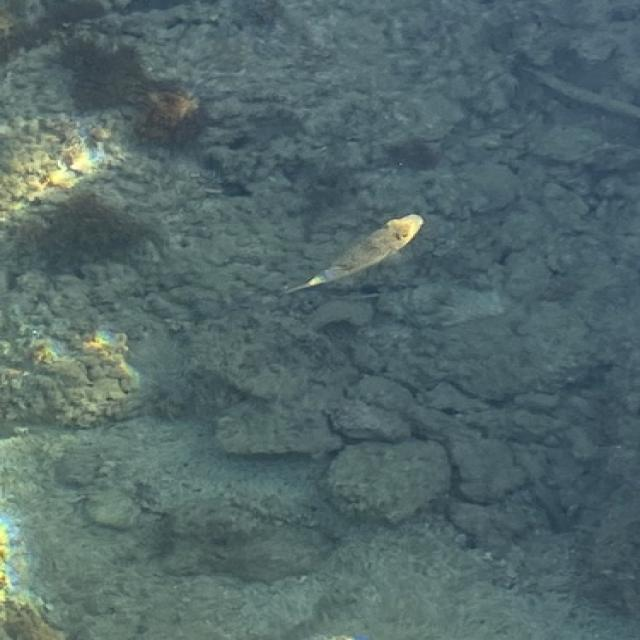Balik: (286, 214, 423, 293)
